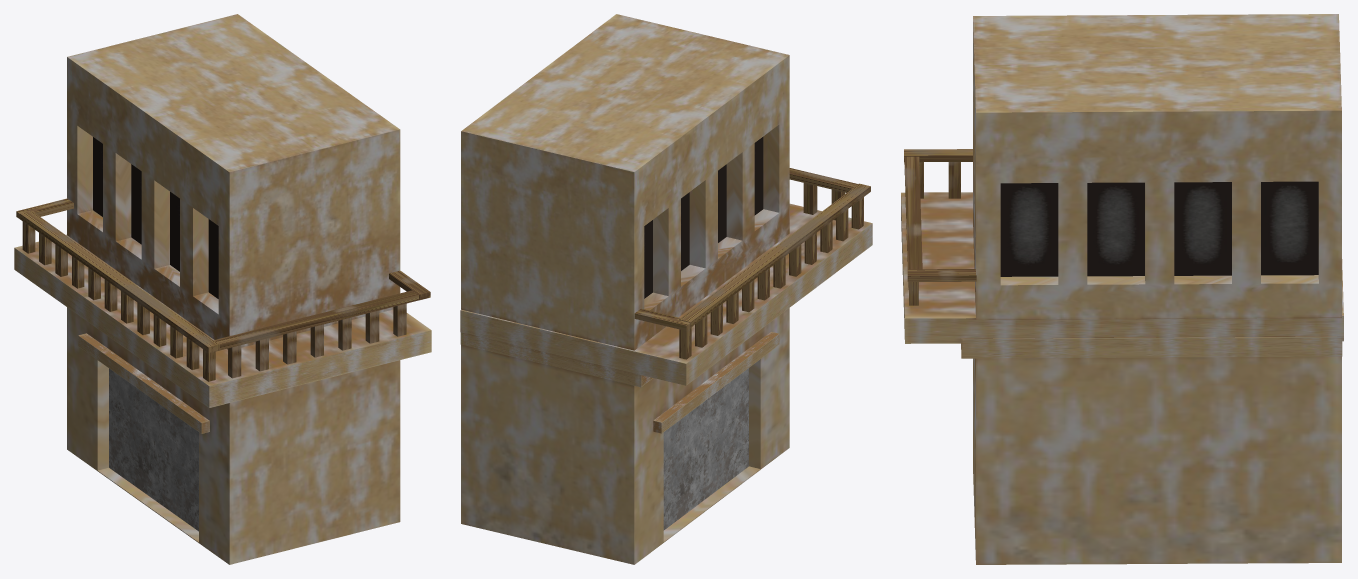
File: Bangunan Terbengkalai 4.fbx
3 views of the same model, side by side, from view 1: azimuth 30°, elevation 25°; view 2: azimuth 150°, elevation 25°; view 3: azimuth 270°, elevation 25° (orthographic). The views are drawn at different scales.
Parts seen in each view (by area): view 1: Cube.013, Cube.010, Cube.012, Cube.019, Cube.016, Cube.020, Cube.014, Cube.015, Cube.001, Cube.018; view 2: Cube.013, Cube.010, Cube.012, Cube.019, Cube.016, Cube.014, Cube.011, Cube.015, Cube.001, Cube.020; view 3: Cube.013, Cube.010, Cube.012, Cube.011, Cube.015, Cube.018, Cube.016, Cube.019.
Boxes of the visible parts, bbox=[...] form: Cube.013: bbox=[67, 14, 400, 349]; Cube.010: bbox=[67, 307, 400, 564]; Cube.012: bbox=[14, 234, 431, 407]; Cube.019: bbox=[22, 221, 215, 381]; Cube.016: bbox=[20, 210, 219, 352]; Cube.020: bbox=[228, 303, 406, 378]; Cube.014: bbox=[78, 333, 209, 433]; Cube.015: bbox=[214, 290, 418, 351]; Cube.001: bbox=[16, 198, 73, 221]; Cube.018: bbox=[389, 270, 430, 300]; Cube.013: bbox=[461, 14, 789, 350]; Cube.010: bbox=[461, 308, 789, 564]; Cube.012: bbox=[460, 203, 872, 385]; Cube.019: bbox=[679, 197, 863, 359]; Cube.016: bbox=[679, 183, 870, 327]; Cube.014: bbox=[653, 331, 779, 433]; Cube.011: bbox=[460, 332, 652, 387]; Cube.015: bbox=[789, 168, 857, 192]; Cube.001: bbox=[634, 308, 692, 330]; Cube.020: bbox=[803, 183, 845, 220]; Cube.013: bbox=[973, 14, 1341, 319]; Cube.010: bbox=[973, 356, 1341, 564]; Cube.012: bbox=[901, 192, 1343, 343]; Cube.011: bbox=[961, 336, 1342, 358]; Cube.015: bbox=[904, 156, 922, 269]; Cube.018: bbox=[907, 269, 976, 281]; Cube.016: bbox=[904, 149, 972, 162]; Cube.019: bbox=[919, 162, 960, 198].
Size of the model in its own units: 266 by 436 by 387.
4 materials, 4 textured.
